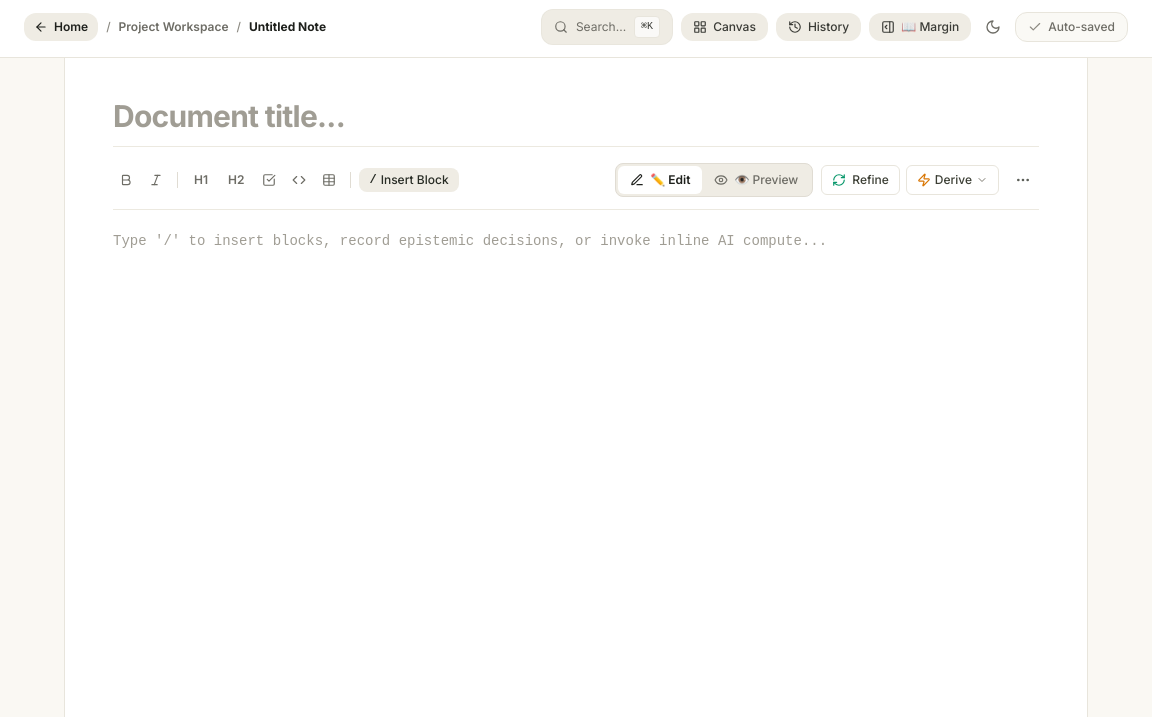
Test: RichDocumentRenderer & Component-Decorated Markdown Hydration › FocusView toggles cleanly between Edit and Preview via segmented control and Cmd+E shortcut
// Click Preview mode segmented button
Click the button with test id "btn-toggle-preview-mode".
click(756, 180)  # box [702, 166, 810, 194]
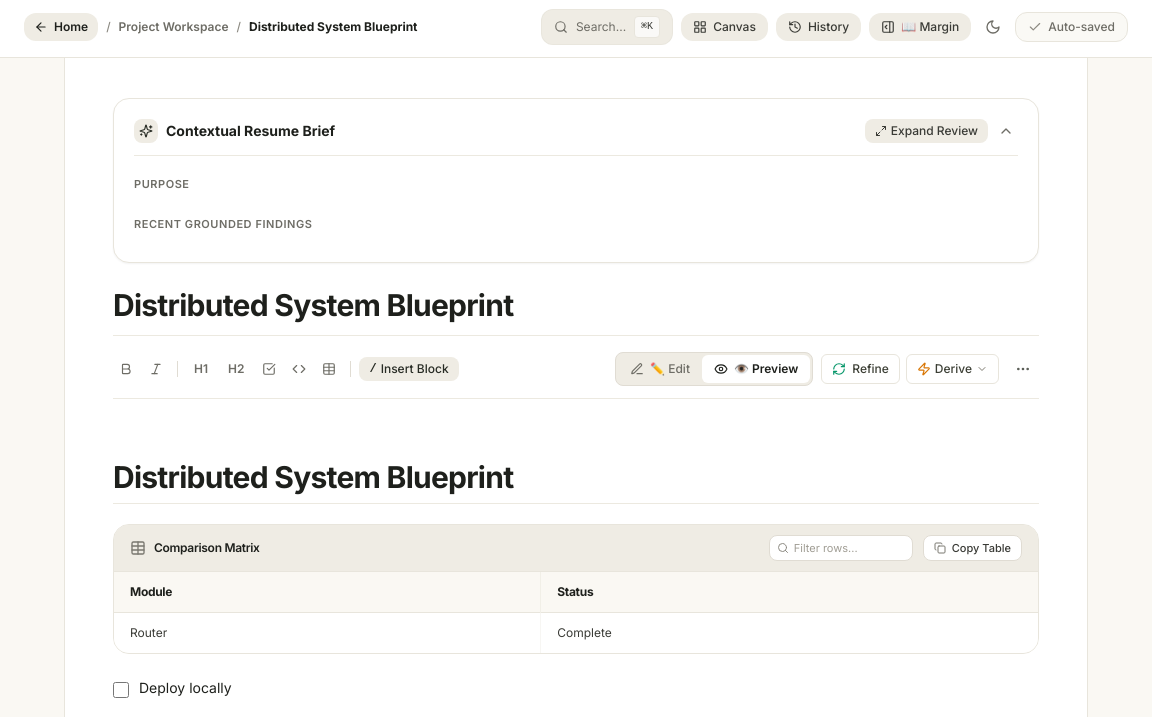
Expected: the element with test id "rich-preview-canvas" is shown, [113, 459, 1039, 698]
Expected: the element with test id "interactive-comparison-table-container" is shown, [113, 524, 1039, 654]
// Click Edit mode segmented button
Click the button with test id "btn-toggle-edit-mode".
click(660, 369)  # box [618, 355, 702, 383]
(page scrolled)
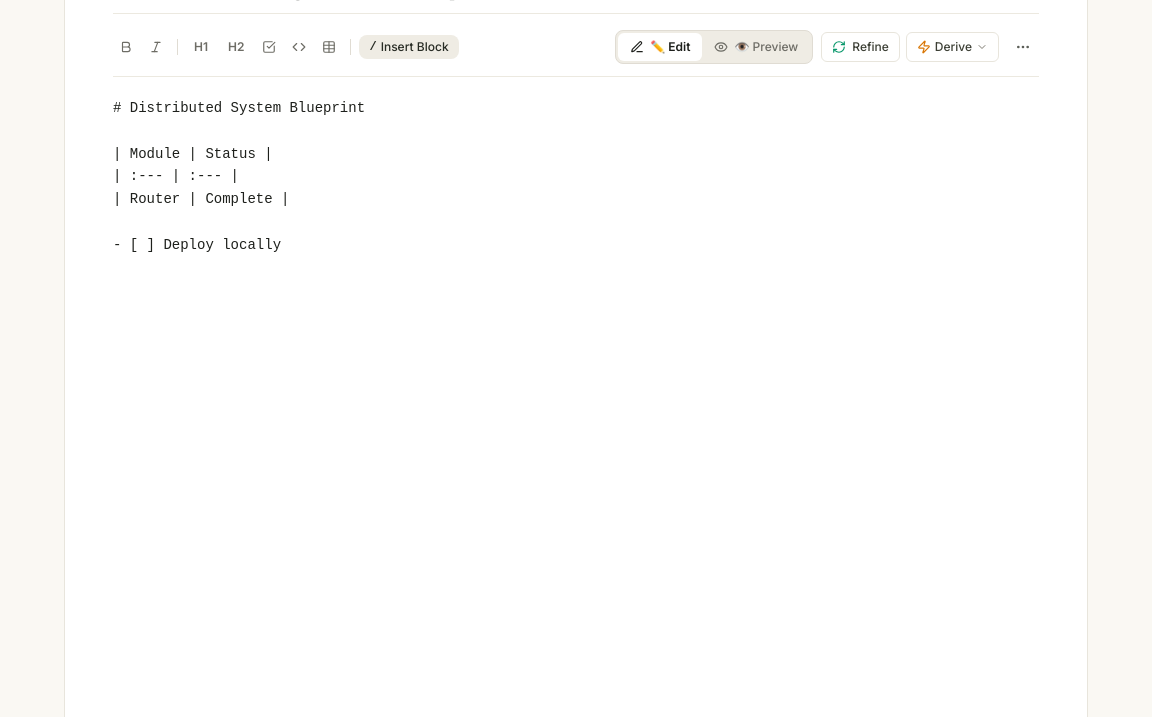
Expected: the text box with test id "textarea-editor" is shown
// Test Cmd + E keyboard shortcut
Press e
(page scrolled)
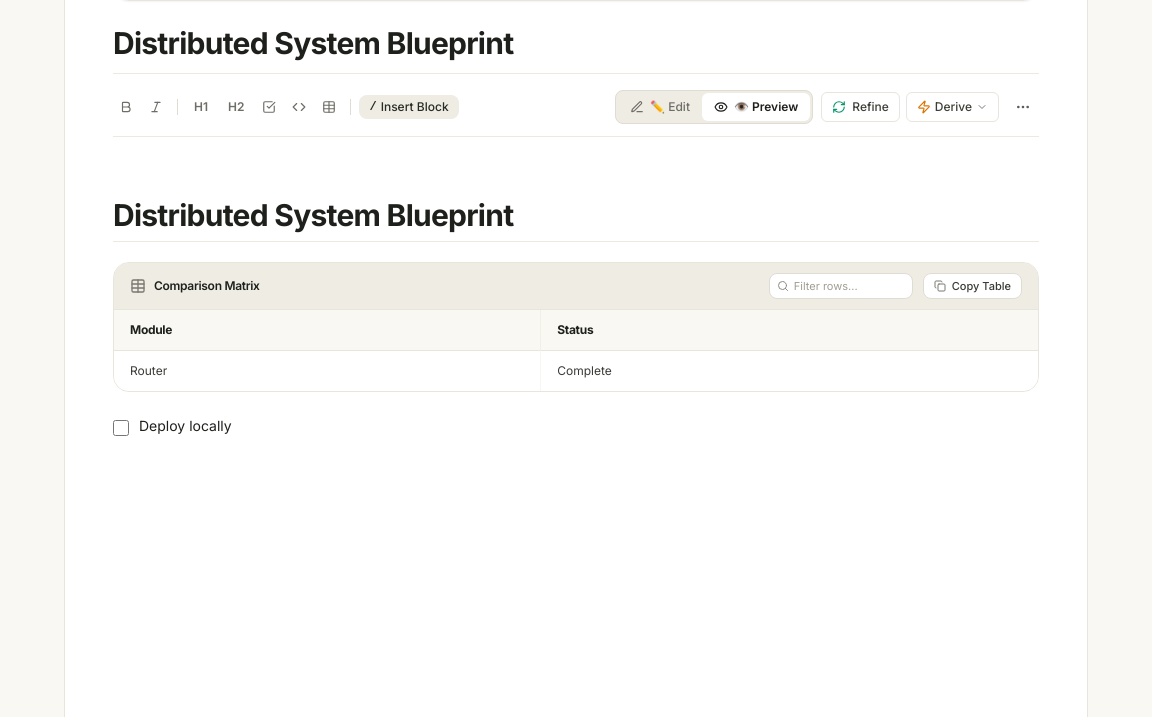
Expected: the element with test id "rich-preview-canvas" is shown, [113, 197, 1039, 436]
Expected: the text box with test id "textarea-editor" is gone
// Test Ctrl + E keyboard shortcut (Windows/Linux)
Press e
(page scrolled)
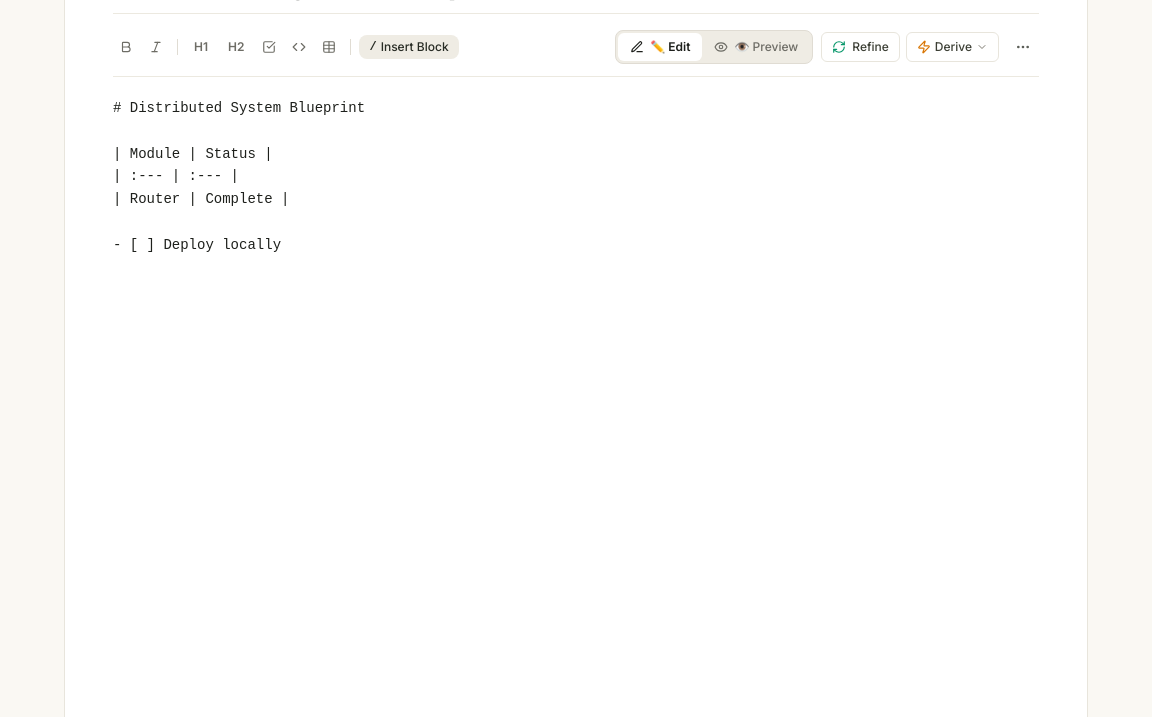
Expected: the text box with test id "textarea-editor" is shown
